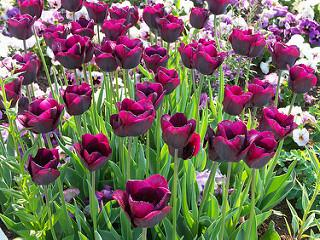tulip: (115, 172, 171, 223), (20, 97, 60, 133), (117, 98, 152, 134), (26, 147, 61, 183), (74, 133, 111, 166), (229, 26, 266, 59), (3, 52, 41, 84), (214, 120, 244, 160), (245, 128, 275, 167), (162, 112, 196, 146), (61, 83, 93, 114), (52, 36, 84, 65), (224, 82, 252, 115), (94, 39, 121, 73), (114, 38, 143, 66), (289, 63, 317, 92), (193, 44, 220, 74), (272, 42, 299, 71), (249, 78, 276, 106), (136, 82, 164, 106), (8, 13, 34, 38), (100, 18, 130, 38), (160, 16, 184, 41), (157, 68, 179, 94), (143, 45, 166, 69), (190, 7, 208, 30)
